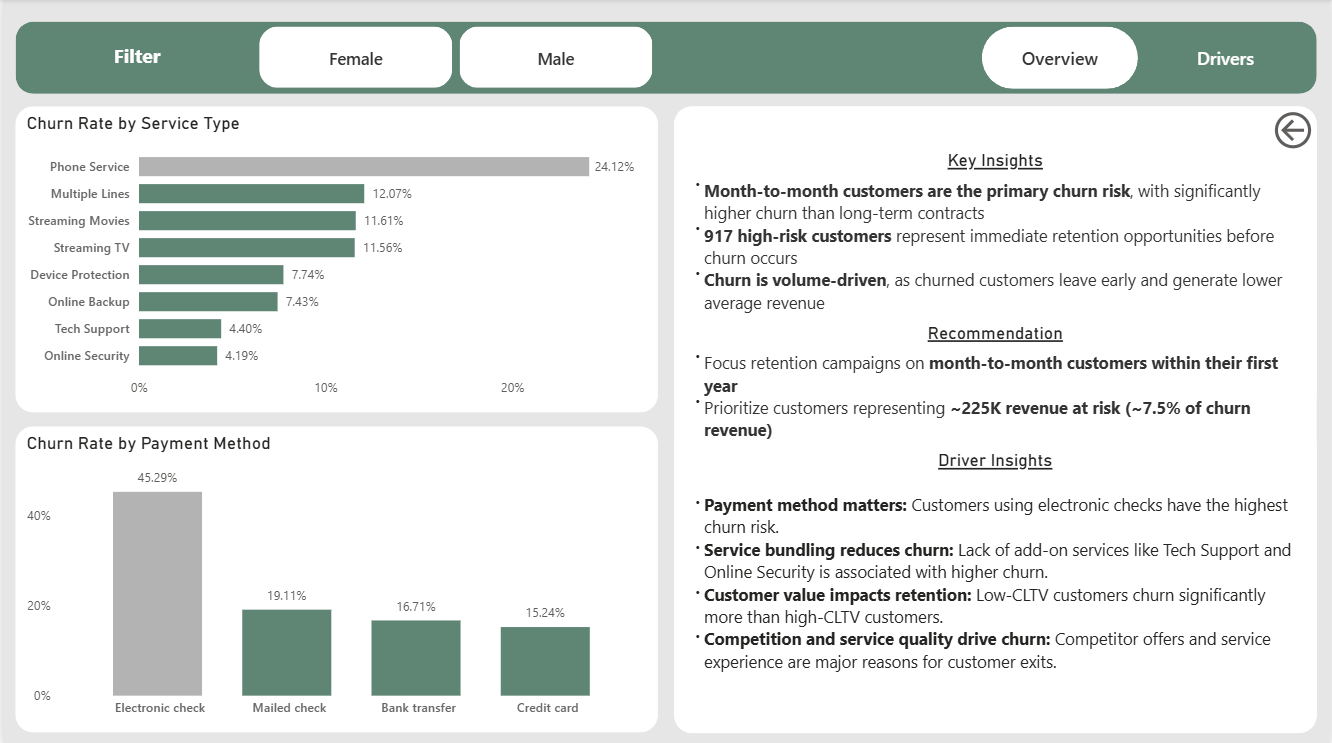

The dashboard page shown, as its layout file describes it:
{"tool":"powerbi","page":{"name":"Churn Drivers","canvas":[1280,720],"ordinal":1},"visuals":[{"type":"shape","box":[12.1,21.7,1255.9,70],"z":0},{"type":"actionButton","box":[944.6,26.5,150.8,60.3],"z":1000},{"type":"actionButton","box":[1105.1,26.5,149.6,60.3],"z":2000},{"type":"columnChart","title":"Churn Rate by Customer Value (CLTV)","fields":{"Category":["telco churn.CLTV_score_Bucket"],"Y":["Measure.Churn Rate"]},"box":[647.9,412.6,620.1,295.6],"z":3000},{"type":"barChart","title":"Churn Reasons (Churn Customer Count)","fields":{"Category":["telco churn.churn_reason"],"Y":["Measure.Churned Customers"]},"box":[647.9,103.8,620.1,295.6],"z":4000},{"type":"columnChart","title":"Churn Rate by Payment Method","fields":{"Category":["telco churn.payment_method"],"Y":["Measure.Churn Rate"]},"box":[12.1,412.6,620.1,295.6],"z":5000},{"type":"barChart","title":"Churn Rate by Service Type","fields":{"Category":["Churned Customers by Service.Service Type"],"Y":["Sum(Churned Customers by Service.Churn Rate)"]},"box":[12.1,103.8,620.1,295.6],"z":6000},{"type":"advancedSlicerVisual","fields":{"Values":["telco churn.gender"]},"box":[242.5,21.7,389.7,70],"z":7000},{"type":"textbox","box":[21.7,26.5,220.8,60.3],"z":8000},{"type":"actionButton","box":[1219.7,103.8,48.3,47.1],"z":11000}]}

Visuals, with their boxes in screenshot pixels (x1, y1, x2, y2), scaled from the page's 1280x720 canvas onto the 1332x743 screenshot:
shape: x1=13, y1=22, x2=1320, y2=95
actionButton: x1=983, y1=27, x2=1140, y2=90
actionButton: x1=1150, y1=27, x2=1306, y2=90
"Churn Rate by Customer Value (CLTV)" columnChart: x1=674, y1=426, x2=1320, y2=731
"Churn Reasons (Churn Customer Count)" barChart: x1=674, y1=107, x2=1320, y2=412
"Churn Rate by Payment Method" columnChart: x1=13, y1=426, x2=658, y2=731
"Churn Rate by Service Type" barChart: x1=13, y1=107, x2=658, y2=412
advancedSlicerVisual - telco churn.gender: x1=252, y1=22, x2=658, y2=95
textbox: x1=23, y1=27, x2=252, y2=90
actionButton: x1=1269, y1=107, x2=1320, y2=156
